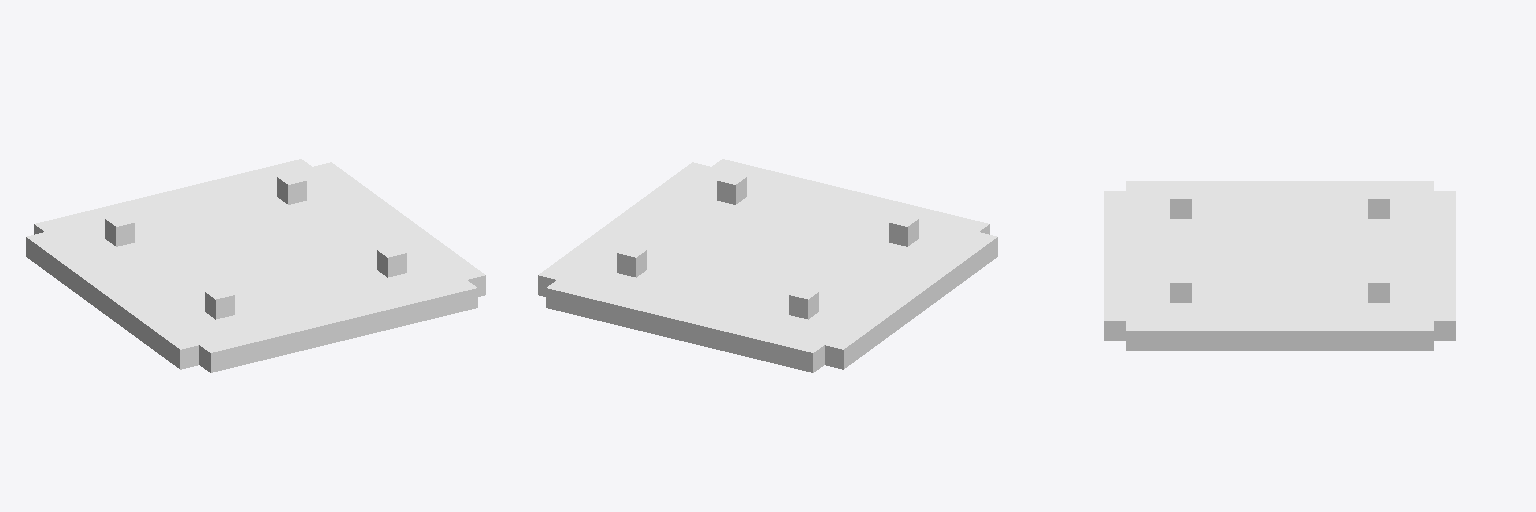
The model's file is shipFr1.obj.
The picture shows the model from 3 angles: view 1: azimuth 30°, elevation 25°; view 2: azimuth 150°, elevation 25°; view 3: azimuth 270°, elevation 25°; orthographic projection.
Visible parts, largest first — view 1: object 1; view 2: object 1; view 3: object 1.
Part boxes in pixels (left/top/right/bottom): object 1: left=26, top=159, right=485, bottom=372; object 1: left=538, top=159, right=997, bottom=372; object 1: left=1104, top=181, right=1455, bottom=350.
Size of the model in its own units: 1.6 by 0.2 by 1.6.